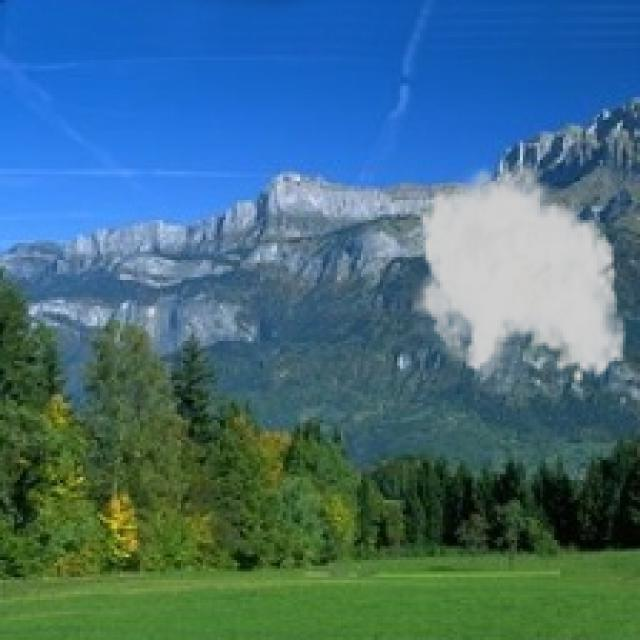smoke: (406, 157, 628, 386)
